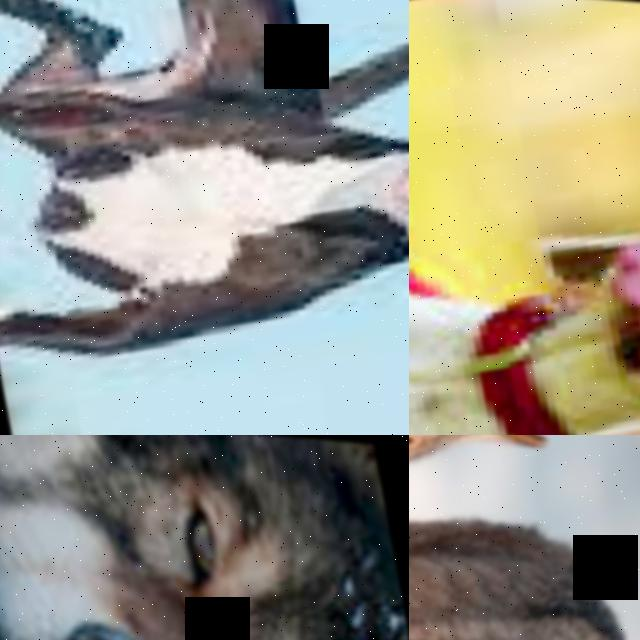dog: (0, 0, 409, 435), (409, 97, 640, 435)
wolf: (0, 435, 409, 640), (409, 435, 640, 640), (409, 435, 640, 613), (0, 435, 124, 640)
